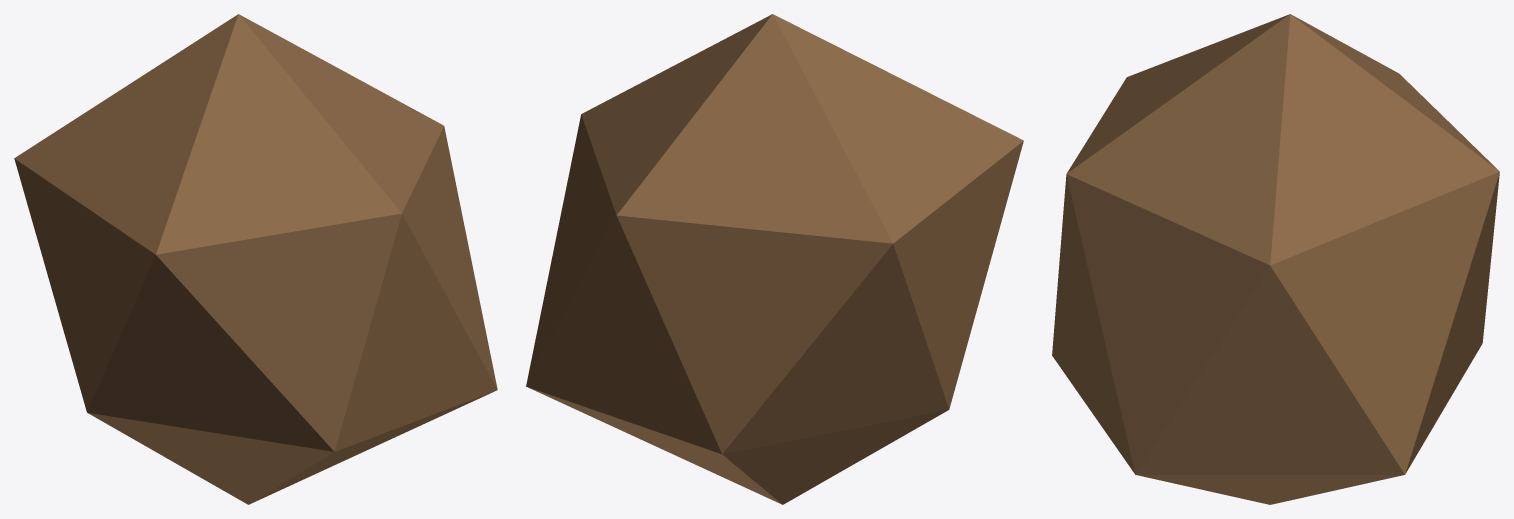
Rendered from Mine.fbx.
The picture shows the model from 3 angles, left to right: view 1: azimuth 30°, elevation 25°; view 2: azimuth 150°, elevation 25°; view 3: azimuth 270°, elevation 25°; orthographic projection. The views are drawn at different scales.
Visible parts, largest first — view 1: Asteroid; view 2: Asteroid; view 3: Asteroid.
Boxes of the visible parts, x1,y1,x2,y2 form: Asteroid: (14, 14, 497, 504); Asteroid: (526, 14, 1023, 504); Asteroid: (1052, 14, 1499, 504).
Size of the model in its own units: 167 by 211 by 175.
